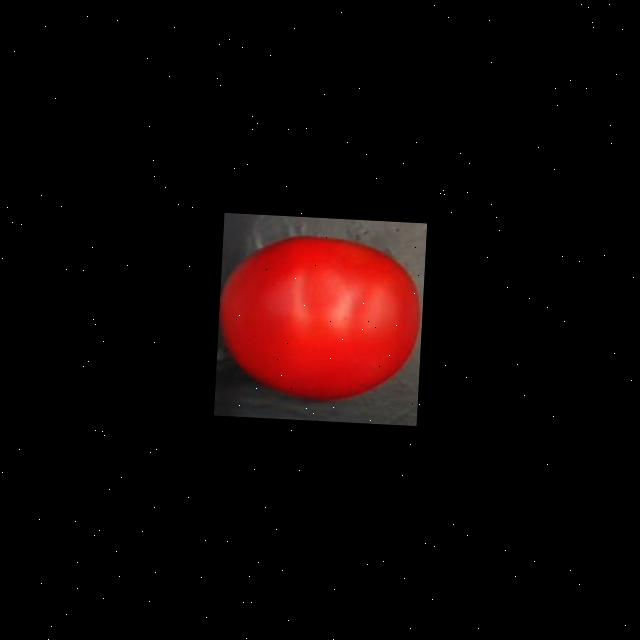tomato: (214, 230, 426, 410)
